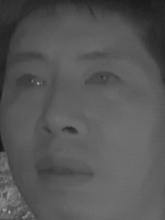eye: (13, 68, 49, 95), (82, 67, 122, 91)
mouth: (30, 149, 99, 191)
